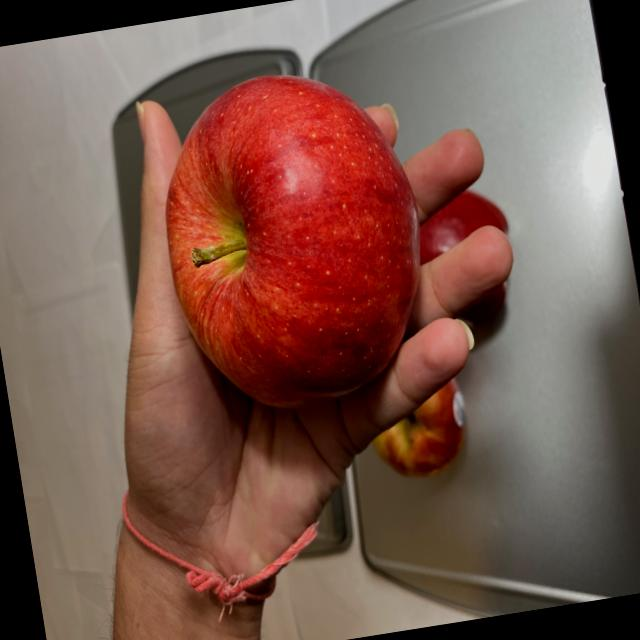apple: (142, 53, 443, 427)
